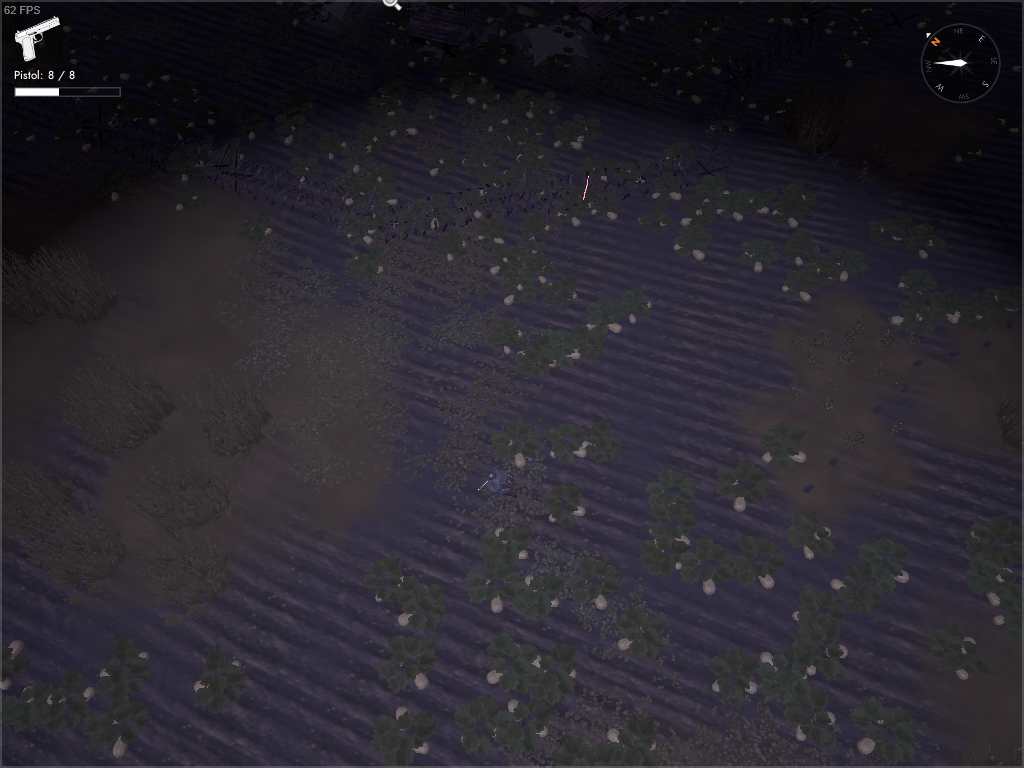foxhole: (501, 2, 606, 79), (274, 1, 368, 35)
pillbox: (390, 1, 484, 62), (558, 1, 636, 43)
player: (474, 466, 520, 503)
wire: (332, 160, 561, 265), (524, 134, 733, 224), (212, 144, 382, 232), (67, 99, 236, 181)
